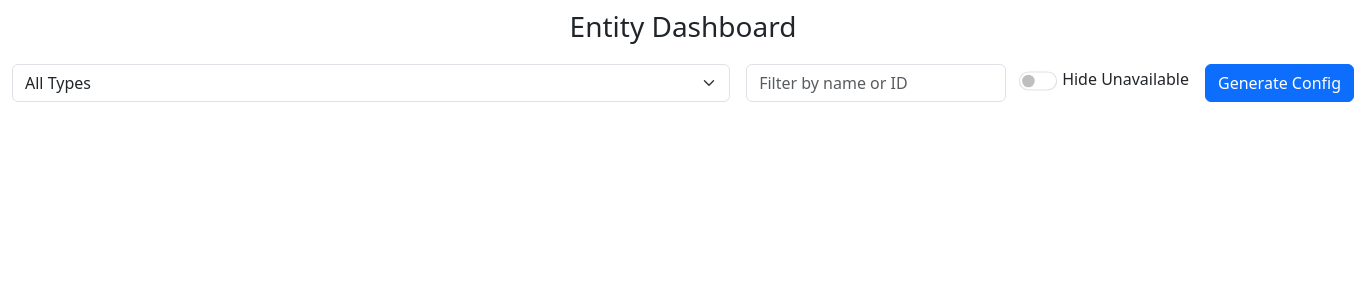
Test: RawEntityView.vue › Areas Display › displays area picture if present
This screenshot has width=1366, height=303.
Select "area" in the dropdown at (371, 83), box [12, 64, 730, 102]
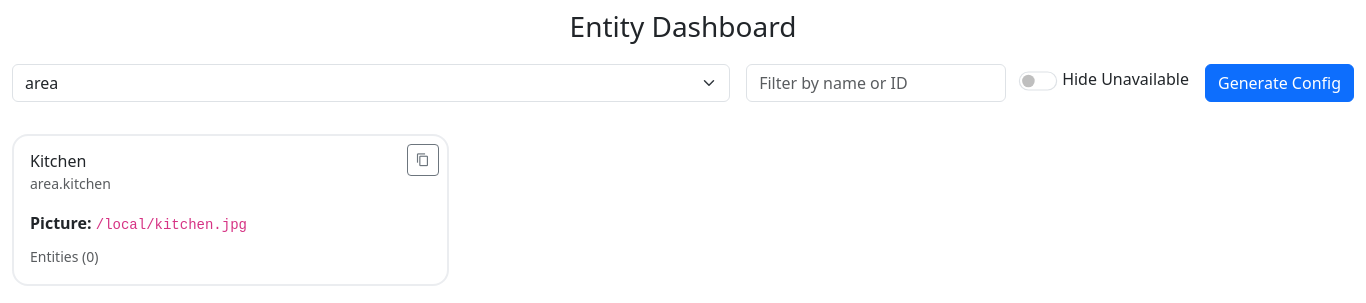
Now the text "Picture:" is shown, box [30, 212, 92, 234]
Now the text "/local/kitchen.jpg" is shown, box [96, 217, 247, 233]
